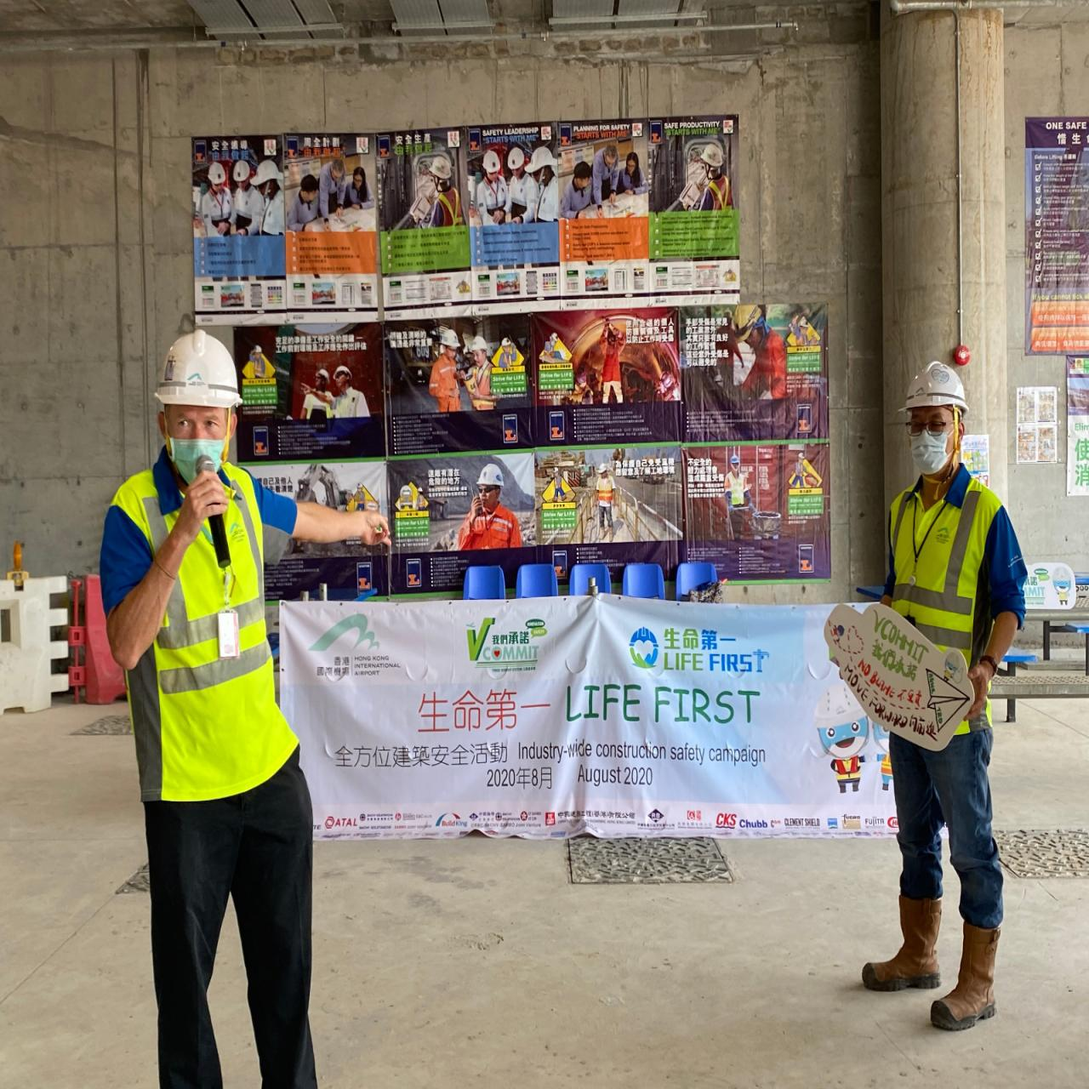NO_Safety_Vest: (96, 460, 312, 811), (873, 463, 1028, 740)
Person: (82, 317, 410, 1089), (829, 336, 1044, 1032)
